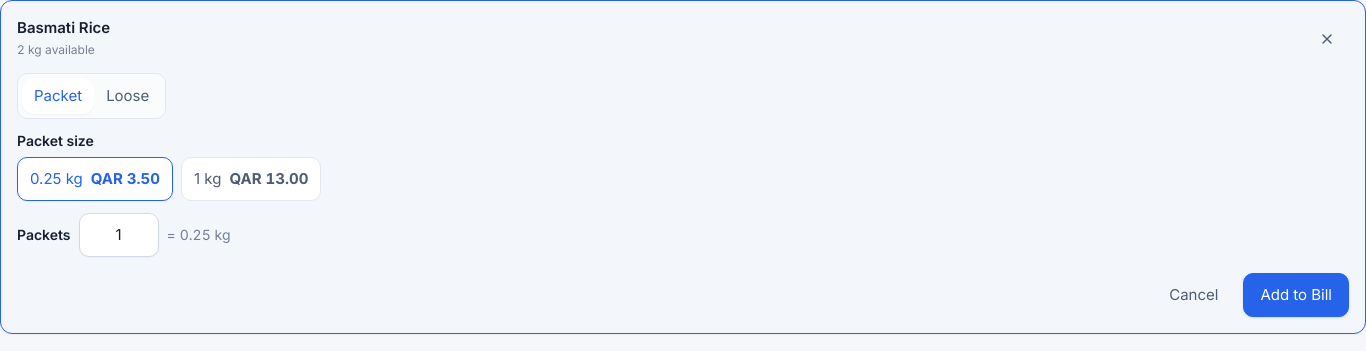
PricingPanel › rejects an empty loose weight
The width and height of the screenshot is (1366, 351).
Click the button "Loose".
click(128, 96)  # box top-left (94, 78), bottom-right (161, 114)
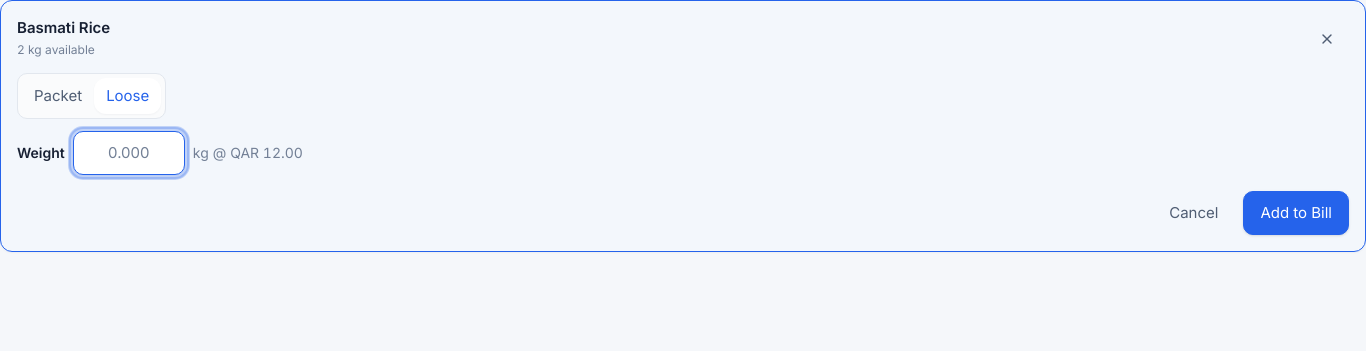
Click the button "Add to Bill".
click(1296, 213)  # box top-left (1243, 191), bottom-right (1349, 235)
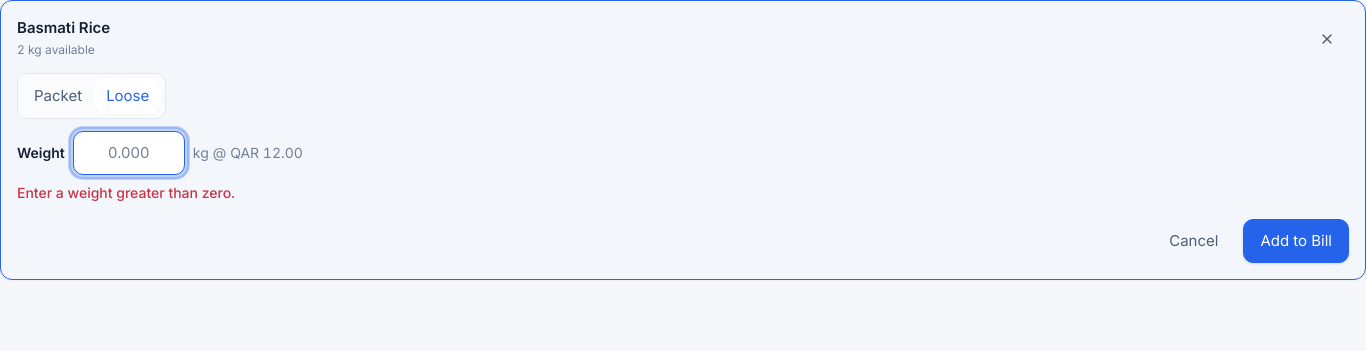
Expected: the message shows "greater than zero", top-left (17, 184), bottom-right (235, 201)
